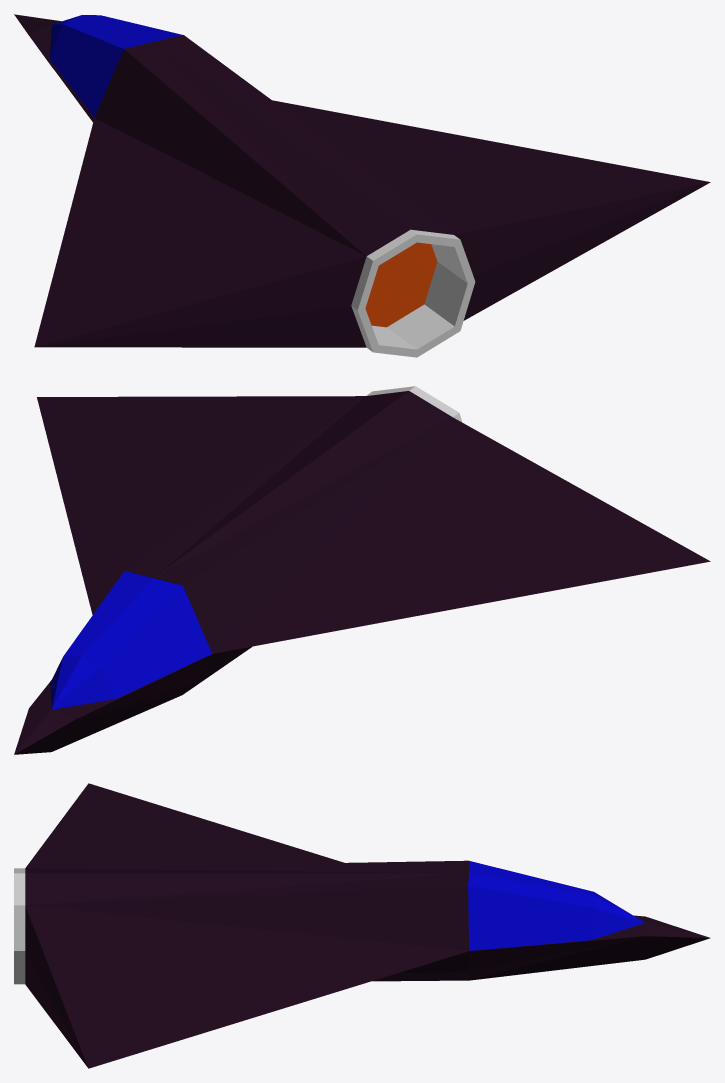
File: ShipV2.obj
3 renders of one model, top to bottom at view 1: azimuth 30°, elevation 25°; view 2: azimuth 150°, elevation 25°; view 3: azimuth 270°, elevation 25°, orthographic. The views are drawn at different scales.
Parts seen in each view (by area): view 1: SHIP; view 2: SHIP; view 3: SHIP.
Boxes of the visible parts, box(x1,y1,x2,y2) form: SHIP: box(14, 14, 710, 357); SHIP: box(14, 386, 710, 754); SHIP: box(14, 783, 710, 1068).
Bounding box in the file's own units: 11.49 × 2 × 11.86.
